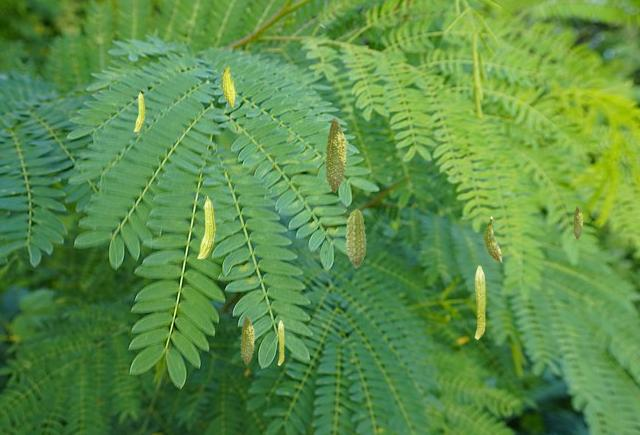ampalaya: (324, 117, 348, 192), (345, 208, 366, 268), (197, 195, 216, 259), (474, 265, 486, 339), (483, 216, 502, 262), (239, 315, 255, 365), (221, 62, 235, 109), (133, 90, 145, 132), (572, 205, 583, 239), (277, 320, 284, 366)
